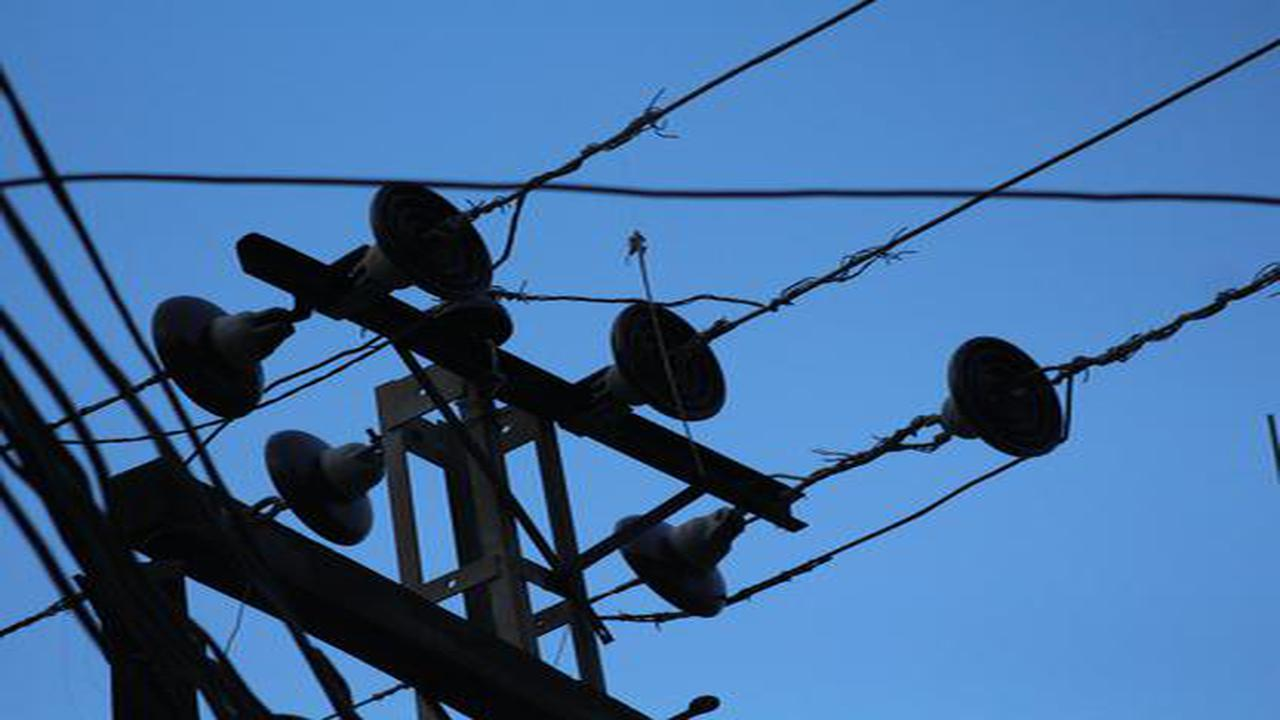insulator_disc: (346, 180, 504, 317), (148, 289, 301, 421), (607, 490, 757, 619), (927, 335, 1068, 465), (596, 303, 734, 424), (257, 426, 398, 543)
